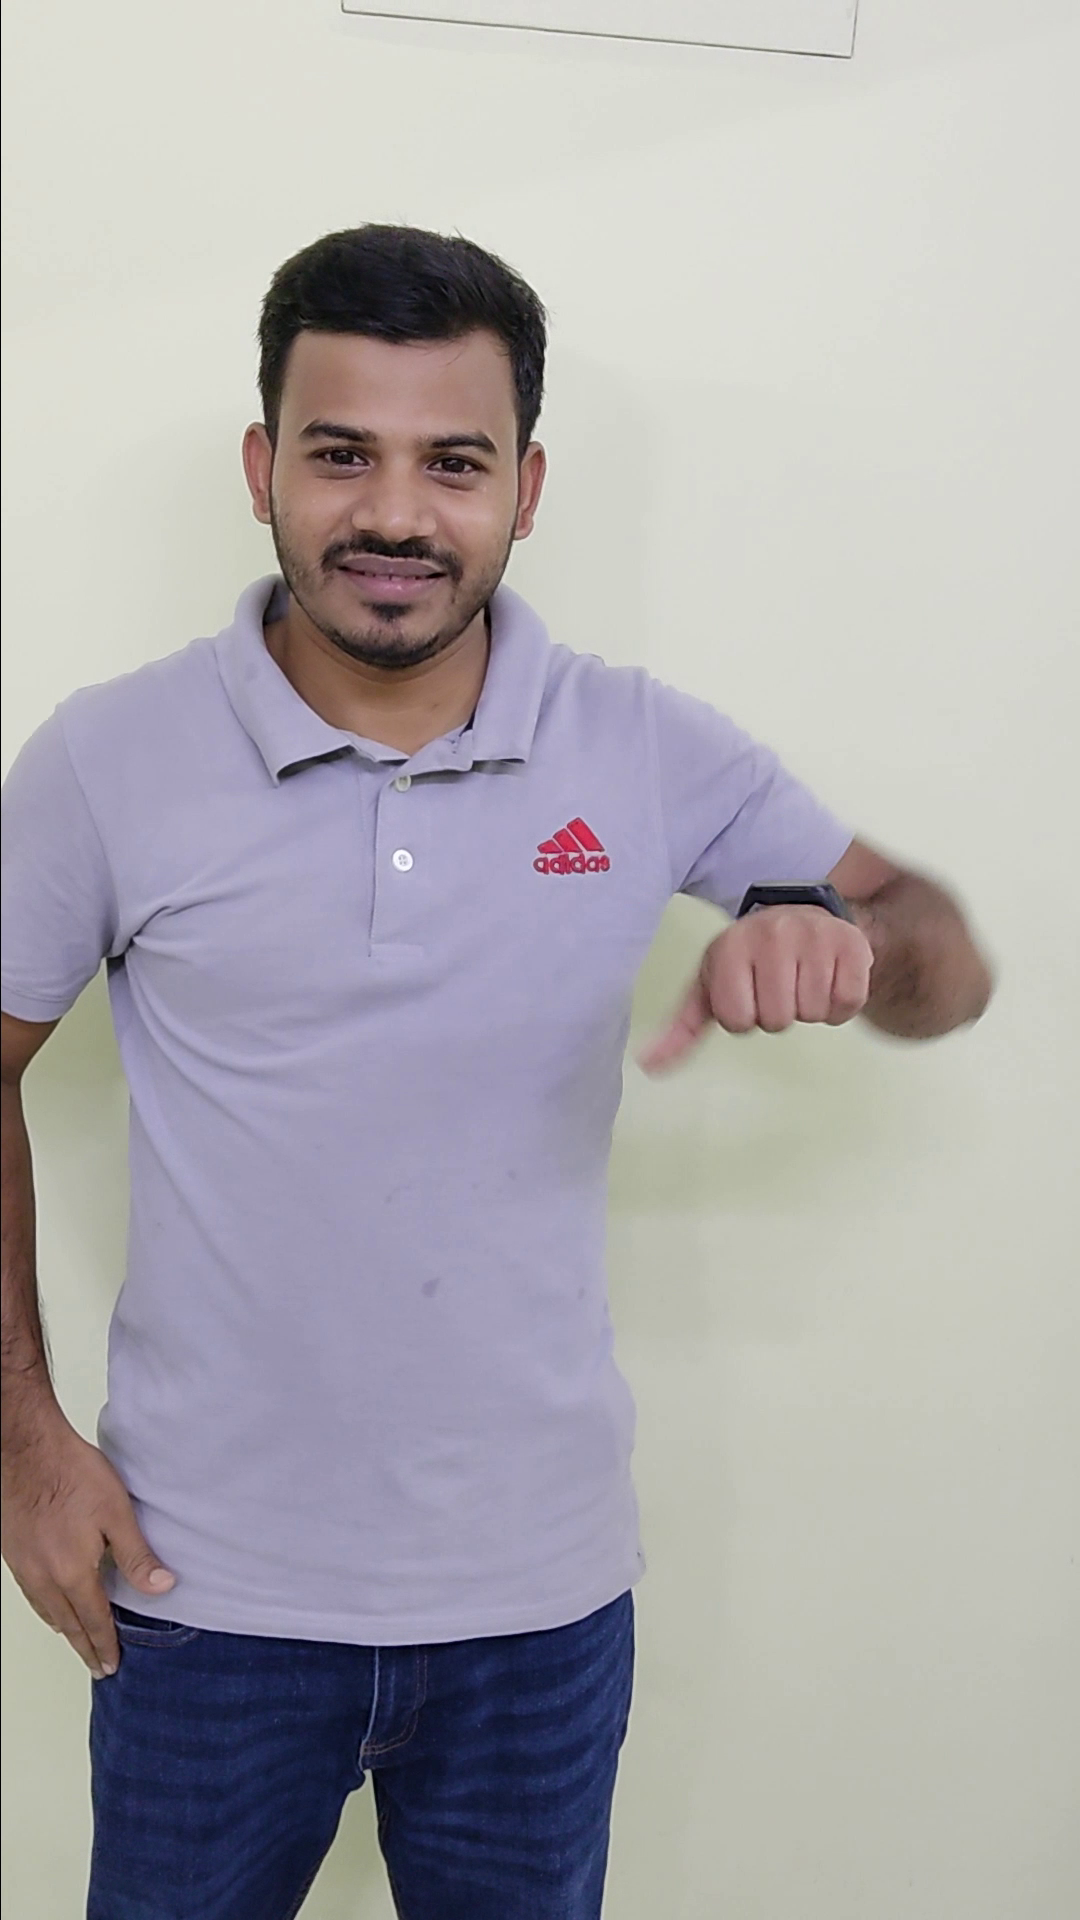Dislike: (603, 887, 915, 1091)
None: (3, 1393, 189, 1683)
